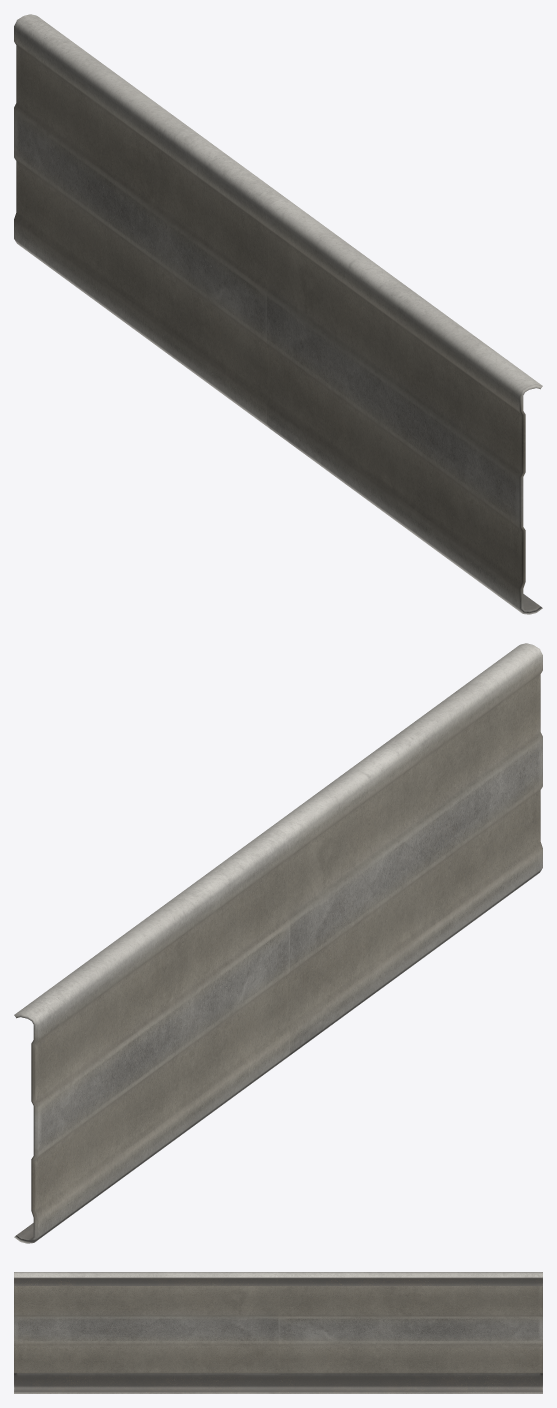
The model's file is Light_Fixture_Plate_low.obj.
3 views of the same model, one above another, from view 1: azimuth 30°, elevation 25°; view 2: azimuth 150°, elevation 25°; view 3: azimuth 270°, elevation 25° (orthographic). The views are drawn at different scales.
Size of the model in its own units: 0.0229 by 0.2154 by 0.8635.
